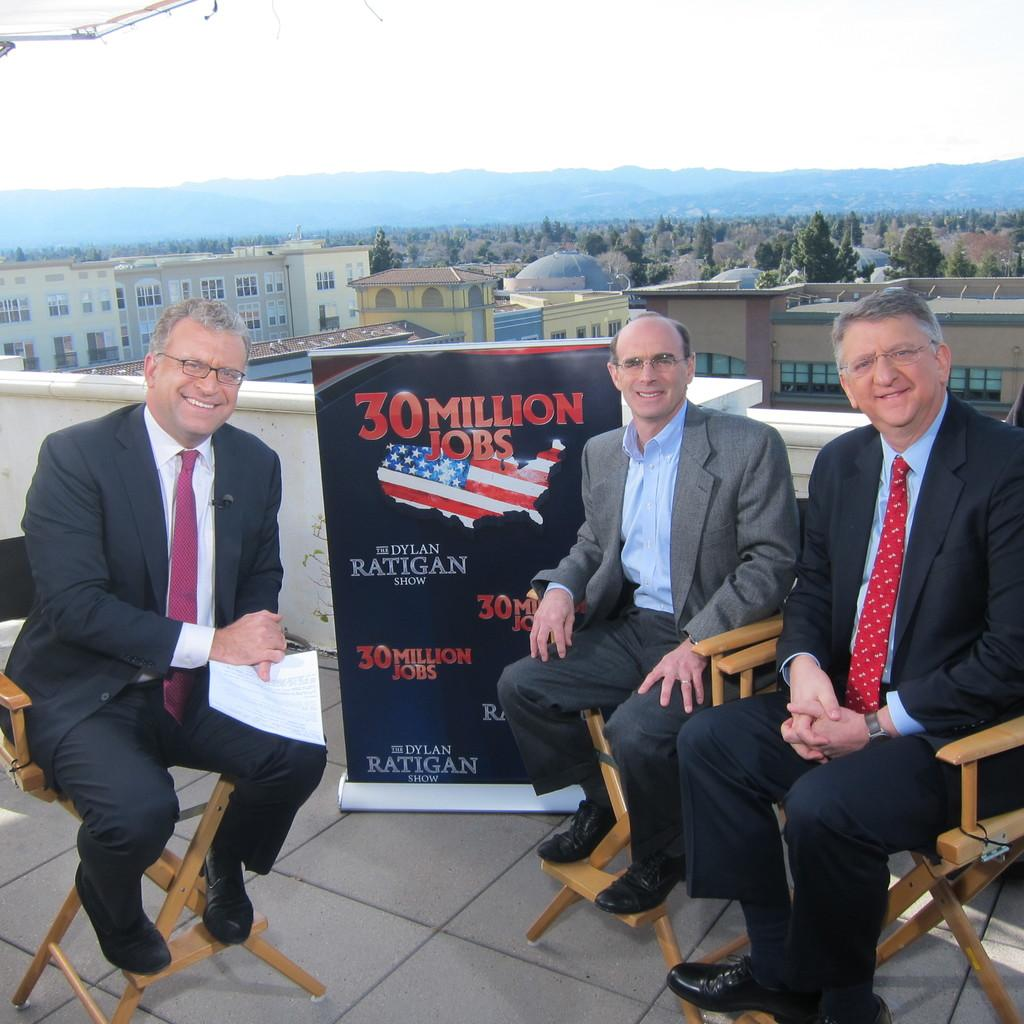Sem Máscara: (145, 310, 243, 436), (839, 311, 939, 424), (610, 313, 684, 418)
